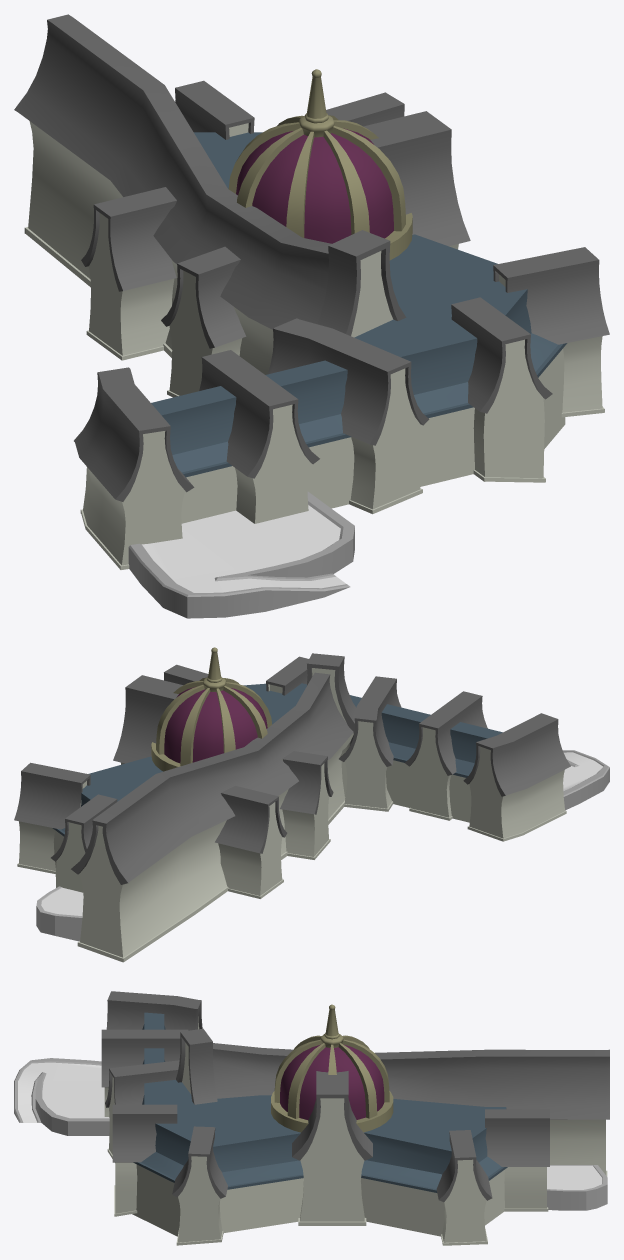
File: a measured aframe test.glb
3 views of the same model, one above another, from view 1: azimuth 30°, elevation 25°; view 2: azimuth 150°, elevation 25°; view 3: azimuth 270°, elevation 25° (orthographic). The views are drawn at different scales.
Visible parts, largest first — view 1: A Frame-col.008, GLUE-col.005, balconyL-col, Sphere-col, A Frame-col.014, A Frame-col.012, A Frame-col.010, A Frame-col.003, A Frame-col.013, A Frame-col, A Frame-col.002, A Frame-col.009 (+3 smaller); view 2: A Frame-col.008, A Frame-col.014, GLUE-col.005, Sphere-col, A Frame-col.010, A Frame-col.001, A Frame-col.012, A Frame-col.013, A Frame-col.009, A Frame-col.002, A Frame-col.005, balconyR-col (+4 smaller); view 3: GLUE-col.005, A Frame-col.008, A Frame-col.002, Sphere-col, balconyL-col, A Frame-col.005, A Frame-col, A Frame-col.001, A Frame-col.003, A Frame-col.014, A Frame-col.013, balconyR-col (+2 smaller).
Boxes of the visible parts, x1=… form: A Frame-col.008: x1=14, y1=14, x2=331, y2=374; GLUE-col.005: x1=151, y1=132, x2=567, y2=523; balconyL-col: x1=128, y1=491, x2=354, y2=618; Sphere-col: x1=228, y1=69, x2=412, y2=260; A Frame-col.014: x1=74, y1=367, x2=194, y2=569; A Frame-col.012: x1=268, y1=318, x2=429, y2=514; A Frame-col.010: x1=81, y1=187, x2=176, y2=360; A Frame-col.003: x1=451, y1=297, x2=552, y2=482; A Frame-col.013: x1=199, y1=350, x2=319, y2=523; A Frame-col: x1=493, y1=247, x2=609, y2=417; A Frame-col.002: x1=363, y1=111, x2=470, y2=249; A Frame-col.009: x1=161, y1=246, x2=246, y2=397; A Frame-col.008: x1=71, y1=672, x2=353, y2=962; A Frame-col.014: x1=463, y1=713, x2=570, y2=841; GLUE-col.005: x1=52, y1=683, x2=502, y2=867; Sphere-col: x1=151, y1=647, x2=271, y2=771; A Frame-col.010: x1=215, y1=786, x2=287, y2=898; A Frame-col.001: x1=14, y1=762, x2=90, y2=874; A Frame-col.012: x1=339, y1=676, x2=401, y2=811; A Frame-col.013: x1=405, y1=691, x2=487, y2=820; A Frame-col.009: x1=280, y1=751, x2=333, y2=859; A Frame-col.002: x1=113, y1=675, x2=183, y2=764; A Frame-col.005: x1=51, y1=794, x2=117, y2=892; balconyR-col: x1=36, y1=886, x2=83, y2=941; GLUE-col.005: x1=132, y1=1012, x2=507, y2=1236; A Frame-col.008: x1=213, y1=1043, x2=609, y2=1176; A Frame-col.002: x1=292, y1=1071, x2=372, y2=1225; Sphere-col: x1=271, y1=1004, x2=393, y2=1132; balconyL-col: x1=14, y1=1058, x2=109, y2=1135; A Frame-col.005: x1=485, y1=1109, x2=549, y2=1211; A Frame-col: x1=172, y1=1126, x2=227, y2=1245; A Frame-col.001: x1=436, y1=1130, x2=492, y2=1245; A Frame-col.003: x1=112, y1=1104, x2=177, y2=1216; A Frame-col.014: x1=106, y1=991, x2=202, y2=1030; A Frame-col.013: x1=101, y1=1029, x2=188, y2=1116; balconyR-col: x1=547, y1=1165, x2=607, y2=1210.
Size of the model in its own units: 76.45 by 39.61 by 110.
